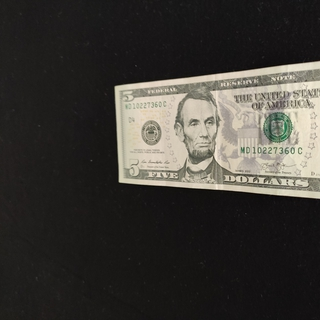5USDFront: (114, 55, 320, 202)
